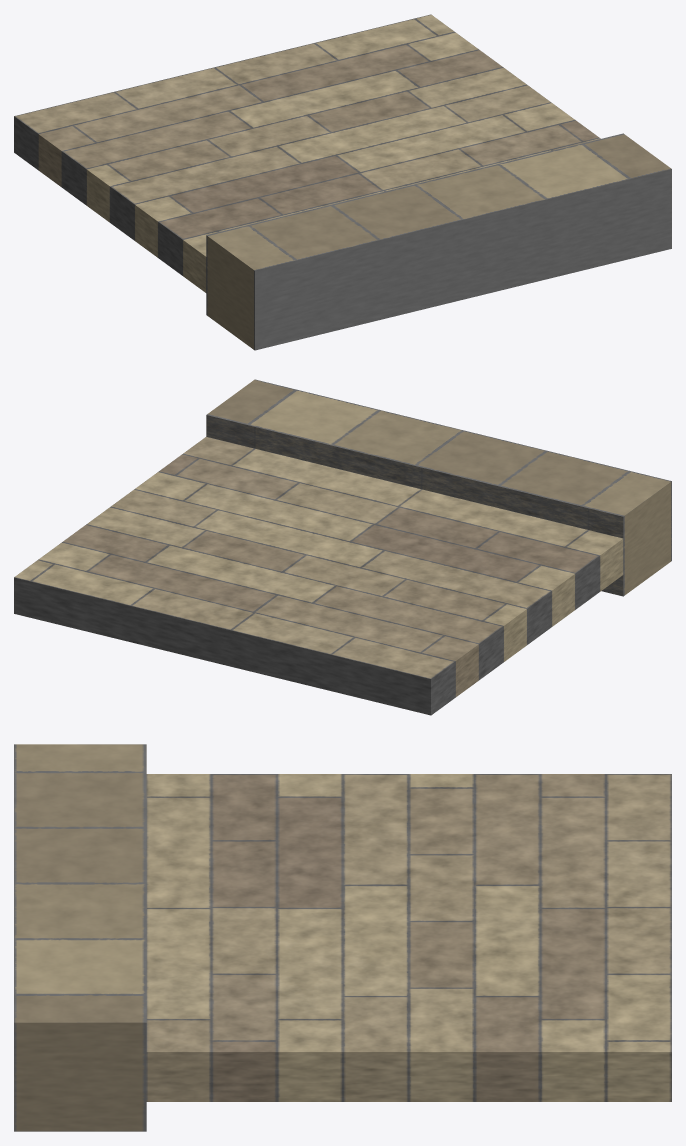
Rendered from BrickWall.fbx.
3 views of the same model, one above another, from view 1: azimuth 30°, elevation 25°; view 2: azimuth 150°, elevation 25°; view 3: azimuth 270°, elevation 25° (orthographic). The views are drawn at different scales.
Parts seen in each view (by area): view 1: BrickWall_Baked; view 2: BrickWall_Baked; view 3: BrickWall_Baked.
Part boxes in pixels (x1,y1,x2,y2): BrickWall_Baked: [14, 14, 671, 350]; BrickWall_Baked: [14, 379, 671, 715]; BrickWall_Baked: [14, 744, 671, 1131].
Bounding box in the file's own units: 300 × 54.84 × 300.
1 material, 1 textured.
